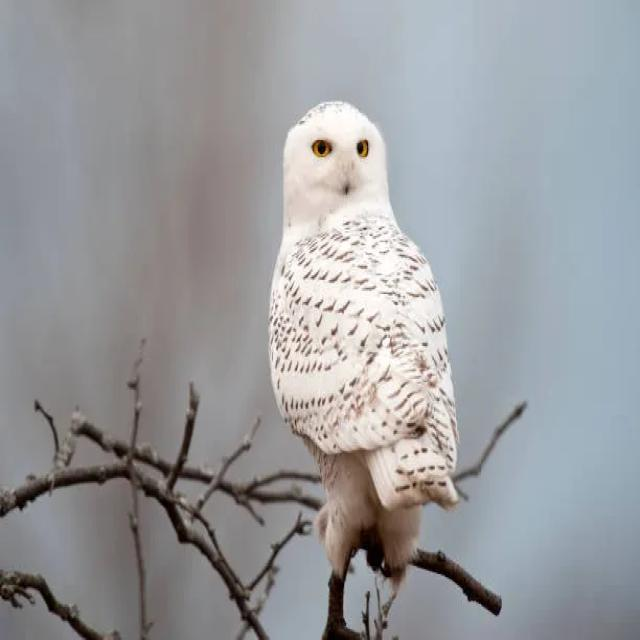owl: (271, 96, 467, 576)
